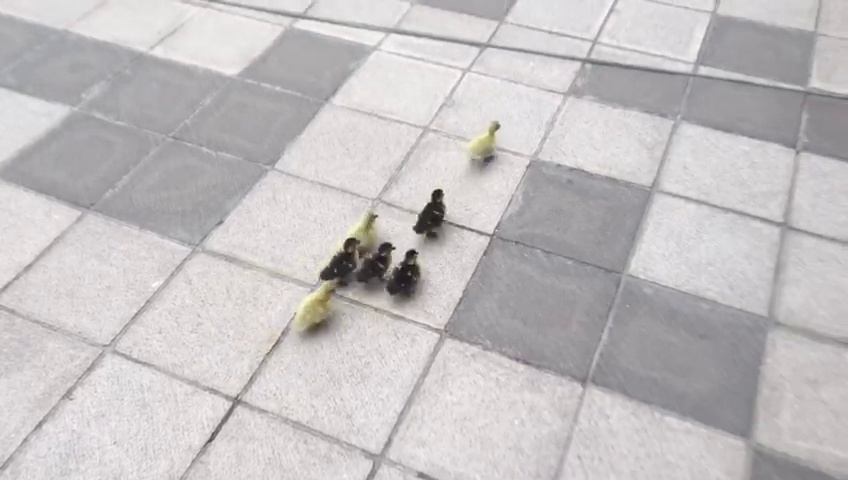patito: (295, 280, 337, 333), (320, 238, 361, 288), (388, 250, 424, 296), (414, 188, 447, 238), (470, 118, 502, 164), (359, 243, 394, 285), (350, 209, 380, 244)
